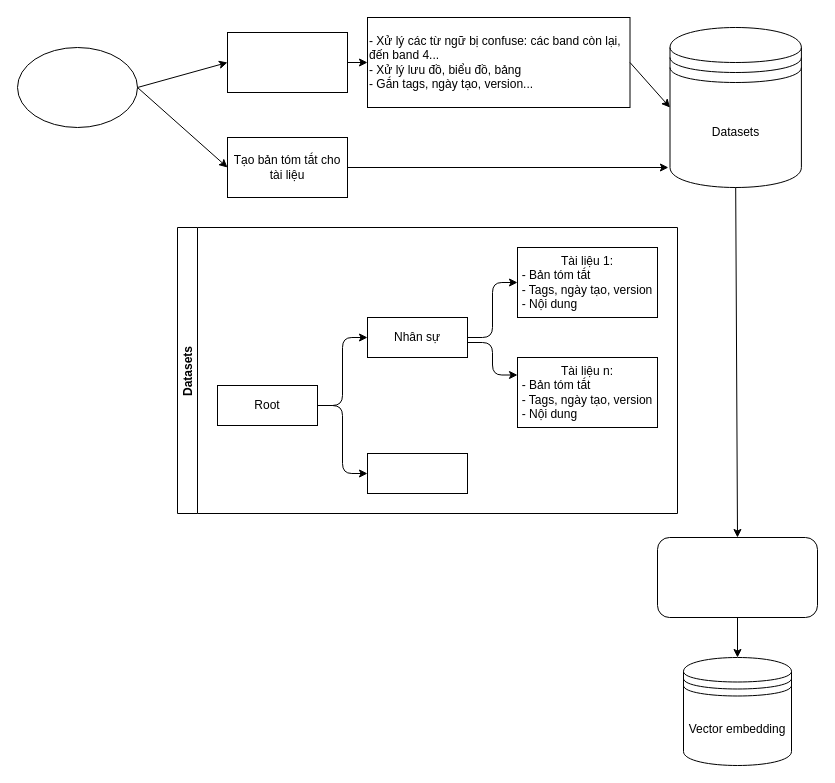
This 835x783 diagram has some shape labels left out. The box of each missing label's shape, as (x1, y1, x2, y2) in pixels:
Chuẩn hoá lại tài liệu: (226, 32, 348, 92)
Embedding dữ liệu Sử dụng các model (gemma, bge..): (656, 536, 818, 618)
Pháp chế...: (366, 452, 468, 494)
Xử lý tài liệu: (16, 46, 138, 128)
